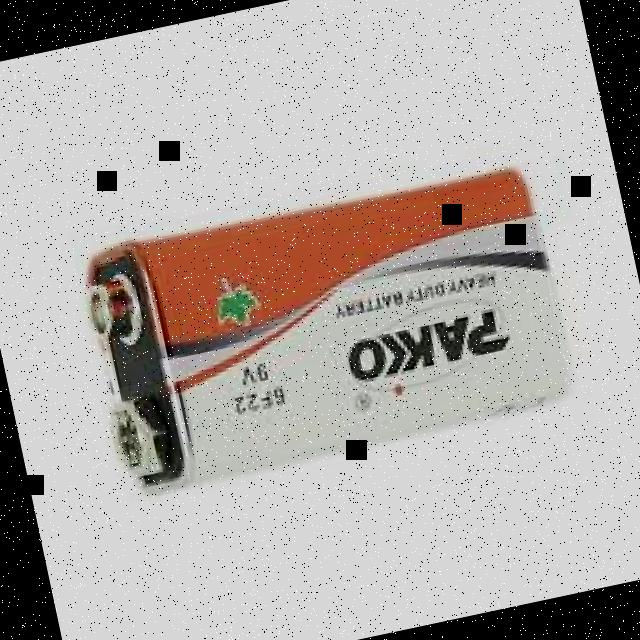battery: (84, 165, 573, 497)
